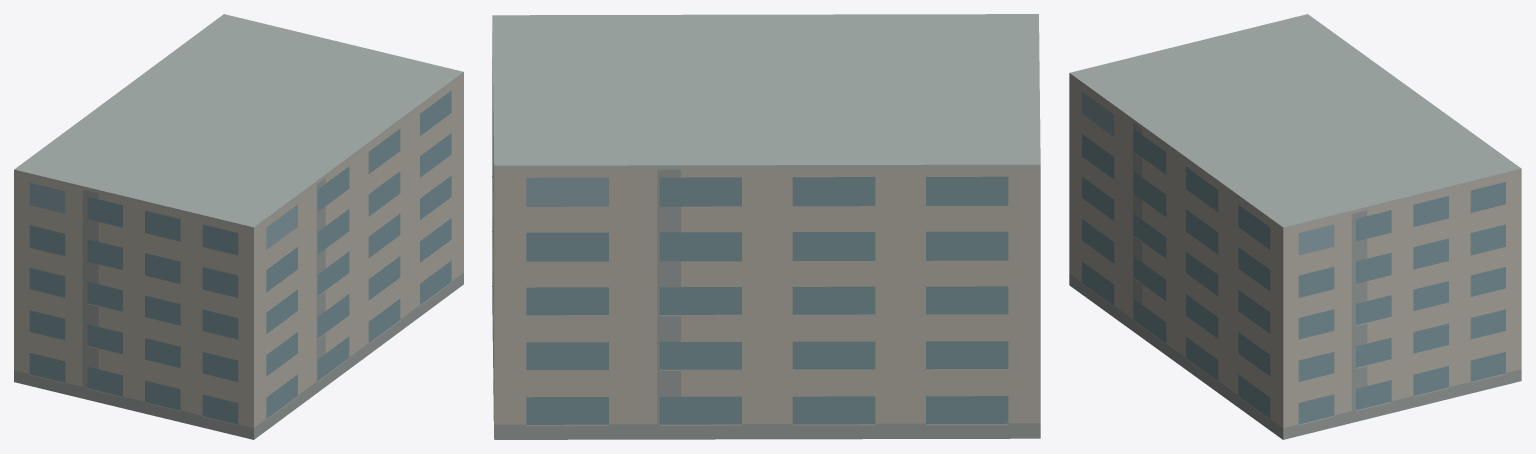
The model's file is residential-0a4d90a5-1e89-4f95-92b6-d2d306cdaaf8.glb.
3 renders of one model, left to right at view 1: azimuth 30°, elevation 25°; view 2: azimuth 150°, elevation 25°; view 3: azimuth 270°, elevation 25°, orthographic. The views are drawn at different scales.
Parts seen in each view (by area): view 1: residential-0a4d90a5-1e89-4f95-92b6-d2d306cdaaf8.tmp; view 2: residential-0a4d90a5-1e89-4f95-92b6-d2d306cdaaf8.tmp; view 3: residential-0a4d90a5-1e89-4f95-92b6-d2d306cdaaf8.tmp.
Part boxes in pixels (x1=…): residential-0a4d90a5-1e89-4f95-92b6-d2d306cdaaf8.tmp: x1=14, y1=14, x2=463, y2=439; residential-0a4d90a5-1e89-4f95-92b6-d2d306cdaaf8.tmp: x1=492, y1=14, x2=1040, y2=439; residential-0a4d90a5-1e89-4f95-92b6-d2d306cdaaf8.tmp: x1=1069, y1=14, x2=1521, y2=439.
Size of the model in its own units: 32.86 by 15.25 by 29.42.
